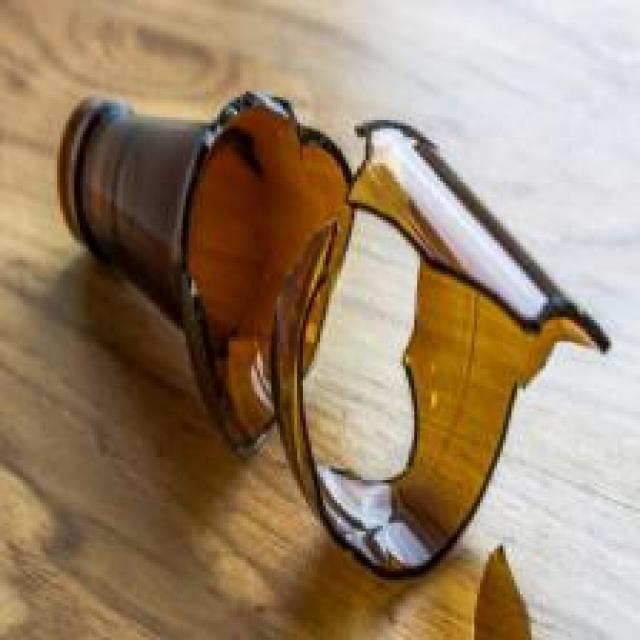Dry: (55, 88, 612, 575)
